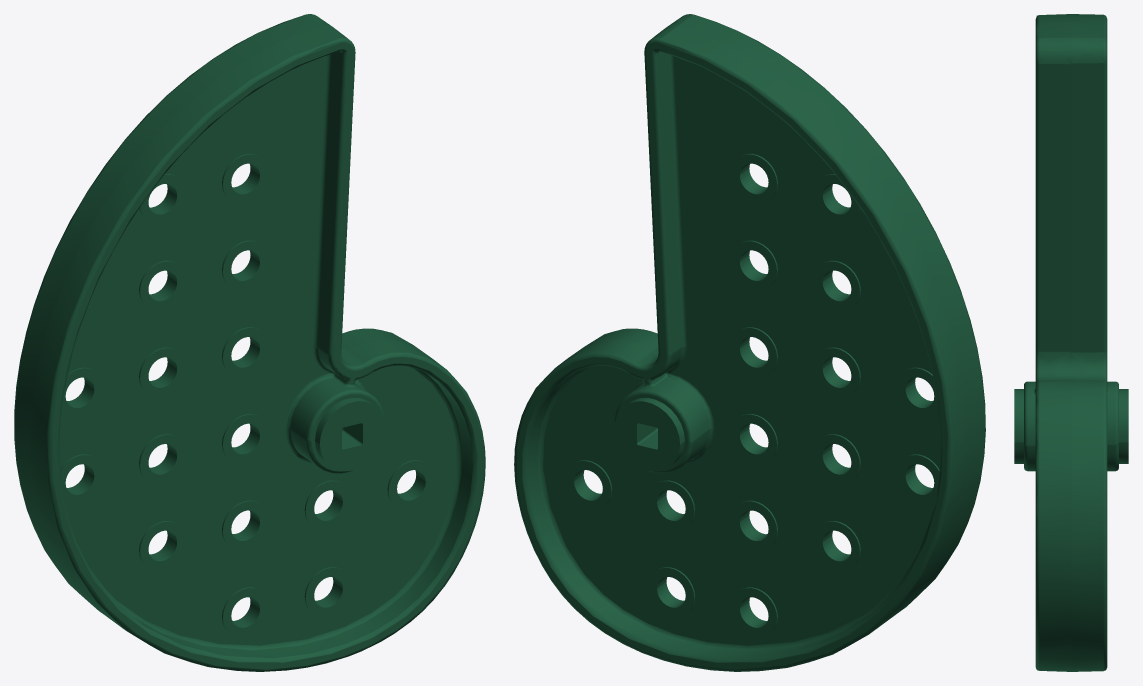
The picture shows the model from 3 angles, left to right: view 1: azimuth 30°, elevation 25°; view 2: azimuth 150°, elevation 25°; view 3: azimuth 270°, elevation 25°; orthographic projection.
Visible parts, largest first — view 1: 276-2045-061 Rev1; view 2: 276-2045-061 Rev1; view 3: 276-2045-061 Rev1.
Boxes of the visible parts, x1,y1,x2,y2 form: 276-2045-061 Rev1: [14, 14, 485, 671]; 276-2045-061 Rev1: [514, 14, 985, 671]; 276-2045-061 Rev1: [1014, 14, 1128, 671].
Bounding box in the file's own units: 67.42 × 91.14 × 15.24.
